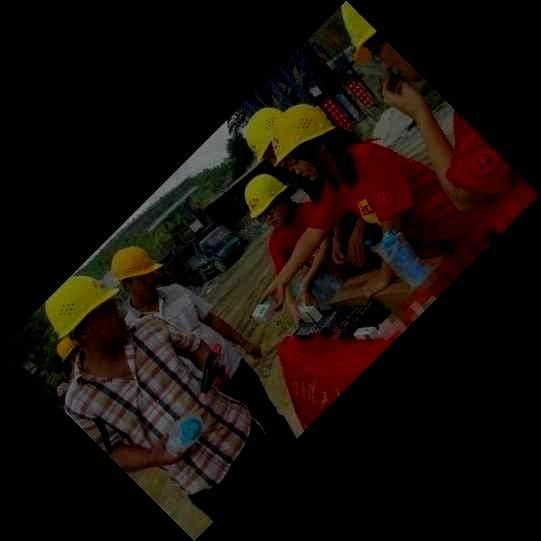helmet: (341, 1, 421, 83), (43, 275, 131, 348), (270, 103, 337, 181), (110, 244, 163, 301), (244, 106, 288, 168), (244, 173, 289, 230), (56, 335, 78, 363)
